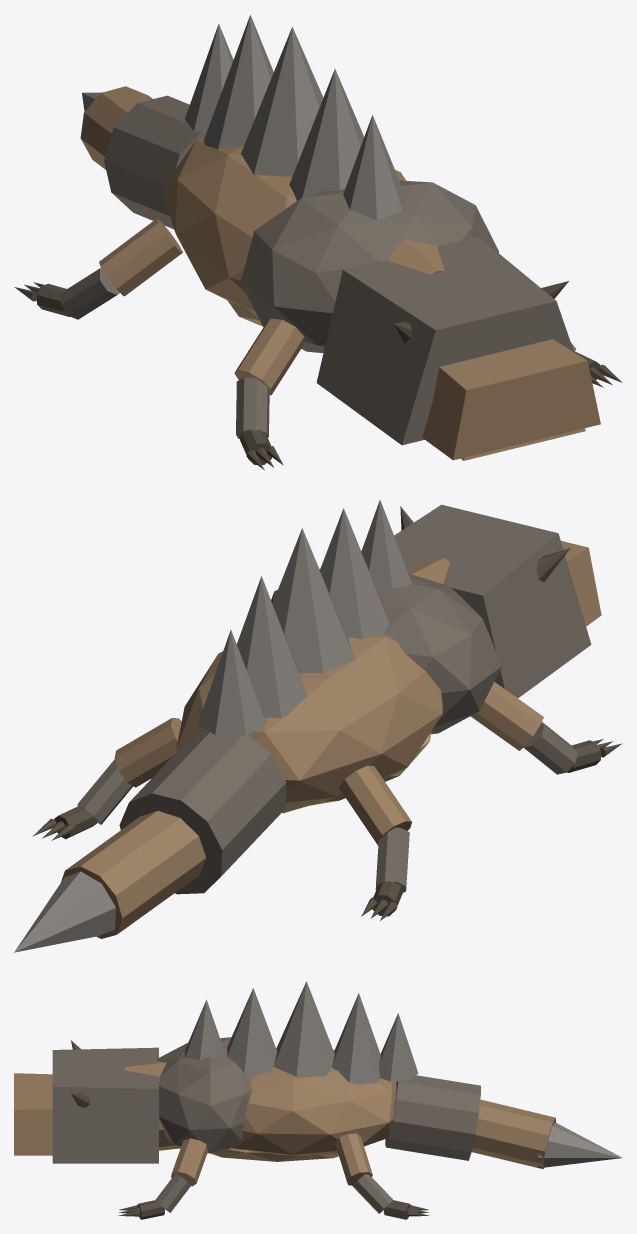
File: ashscale_basilisk_v1.glb
3 renders of one model, top to bottom at view 1: azimuth 30°, elevation 25°; view 2: azimuth 150°, elevation 25°; view 3: azimuth 270°, elevation 25°, orthographic. The views are drawn at different scales.
Visible parts, largest first — view 1: CrownedHead, ShoulderArmor, Snout, Ribcage, TailBase, BasaltDorsalPlate_2, BasaltDorsalPlate_1, BasaltDorsalPlate_3, BasaltDorsalPlate_0, UpperLeg_LR, UpperLeg_LF, TailMiddle (+6 smaller); view 2: Ribcage, CrownedHead, TailBase, ShoulderArmor, TailMiddle, BasaltDorsalPlate_2, BasaltDorsalPlate_3, BasaltDorsalPlate_1, TailBlade, BasaltDorsalPlate_4, UpperLeg_LR, UpperLeg_RR (+9 smaller); view 3: CrownedHead, Ribcage, ShoulderArmor, TailBase, TailMiddle, BasaltDorsalPlate_2, Snout, BasaltDorsalPlate_3, BasaltDorsalPlate_1, TailBlade, BasaltDorsalPlate_4, BasaltDorsalPlate_0 (+8 smaller).
Boxes of the visible parts, x1,y1,x2,y2 form: CrownedHead: (316,236,573,445); ShoulderArmor: (240,180,498,352); Snout: (422,339,600,460); Ribcage: (161,138,405,311); TailBase: (104,95,206,229); BasaltDorsalPlate_2: (241,27,323,176); BasaltDorsalPlate_1: (289,69,363,200); BasaltDorsalPlate_3: (203,15,273,149); BasaltDorsalPlate_0: (343,115,405,220); UpperLeg_LR: (99,218,182,296); UpperLeg_LF: (234,318,304,395); TailMiddle: (80,86,152,169); Ribcage: (176,634,443,813); CrownedHead: (394,504,591,697); TailBase: (119,729,286,894); ShoulderArmor: (271,569,501,734); TailMiddle: (61,810,205,938); BasaltDorsalPlate_2: (272,528,355,672); BasaltDorsalPlate_3: (236,576,306,718); BasaltDorsalPlate_1: (320,508,389,639); TailBlade: (14,871,115,952); BasaltDorsalPlate_4: (198,629,266,735); UpperLeg_LR: (339,765,411,845); UpperLeg_RR: (114,717,181,787); CrownedHead: (52,1047,158,1163); Ribcage: (231,1050,396,1155); ShoulderArmor: (157,1037,252,1153); TailBase: (385,1075,480,1160); TailMiddle: (471,1099,556,1169); BasaltDorsalPlate_2: (273,981,334,1077); Snout: (14,1073,52,1155); BasaltDorsalPlate_3: (332,993,380,1084); BasaltDorsalPlate_1: (227,988,277,1078); TailBlade: (538,1122,622,1168); BasaltDorsalPlate_4: (379,1013,418,1081); BasaltDorsalPlate_0: (184,1000,224,1059).
Size of the model in its own units: 2.82 by 2.26 by 6.64.
